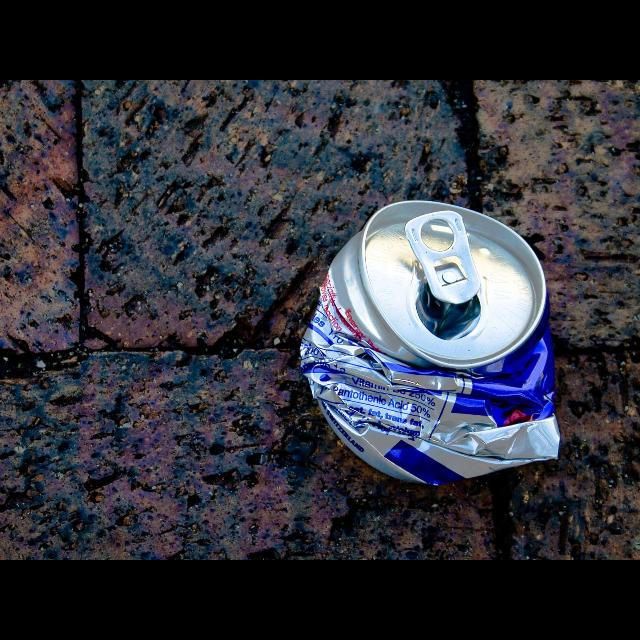aba de lata: (404, 210, 482, 304)
lata: (300, 200, 562, 486)
